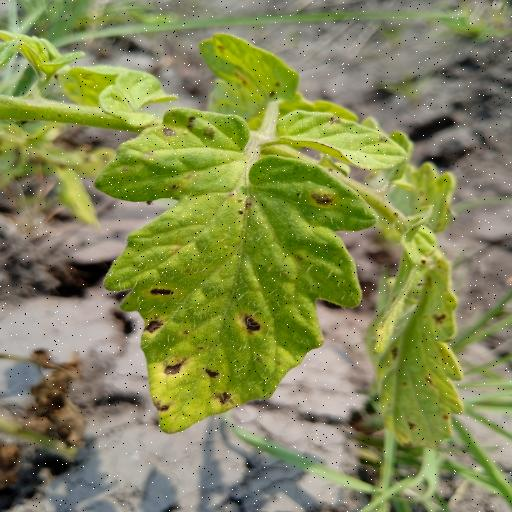Tomato_Brown_Spots: (89, 104, 391, 434)
